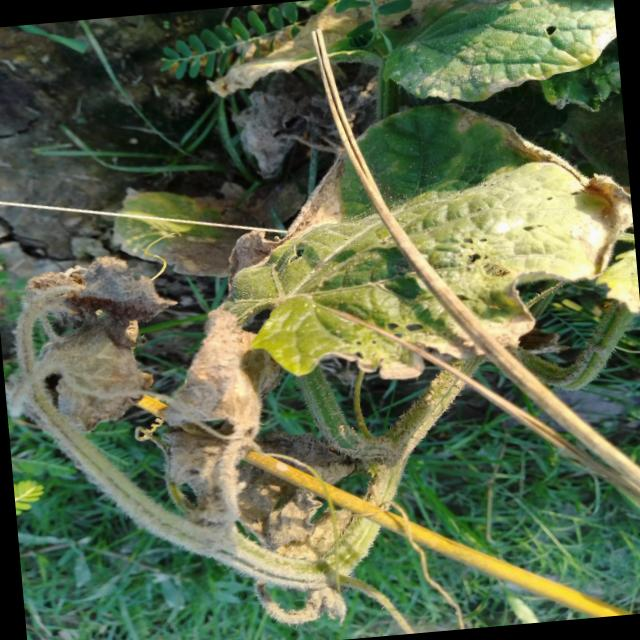cucumber_bacterial: (224, 82, 640, 394), (0, 263, 309, 585), (191, 0, 622, 137), (105, 186, 255, 310)
